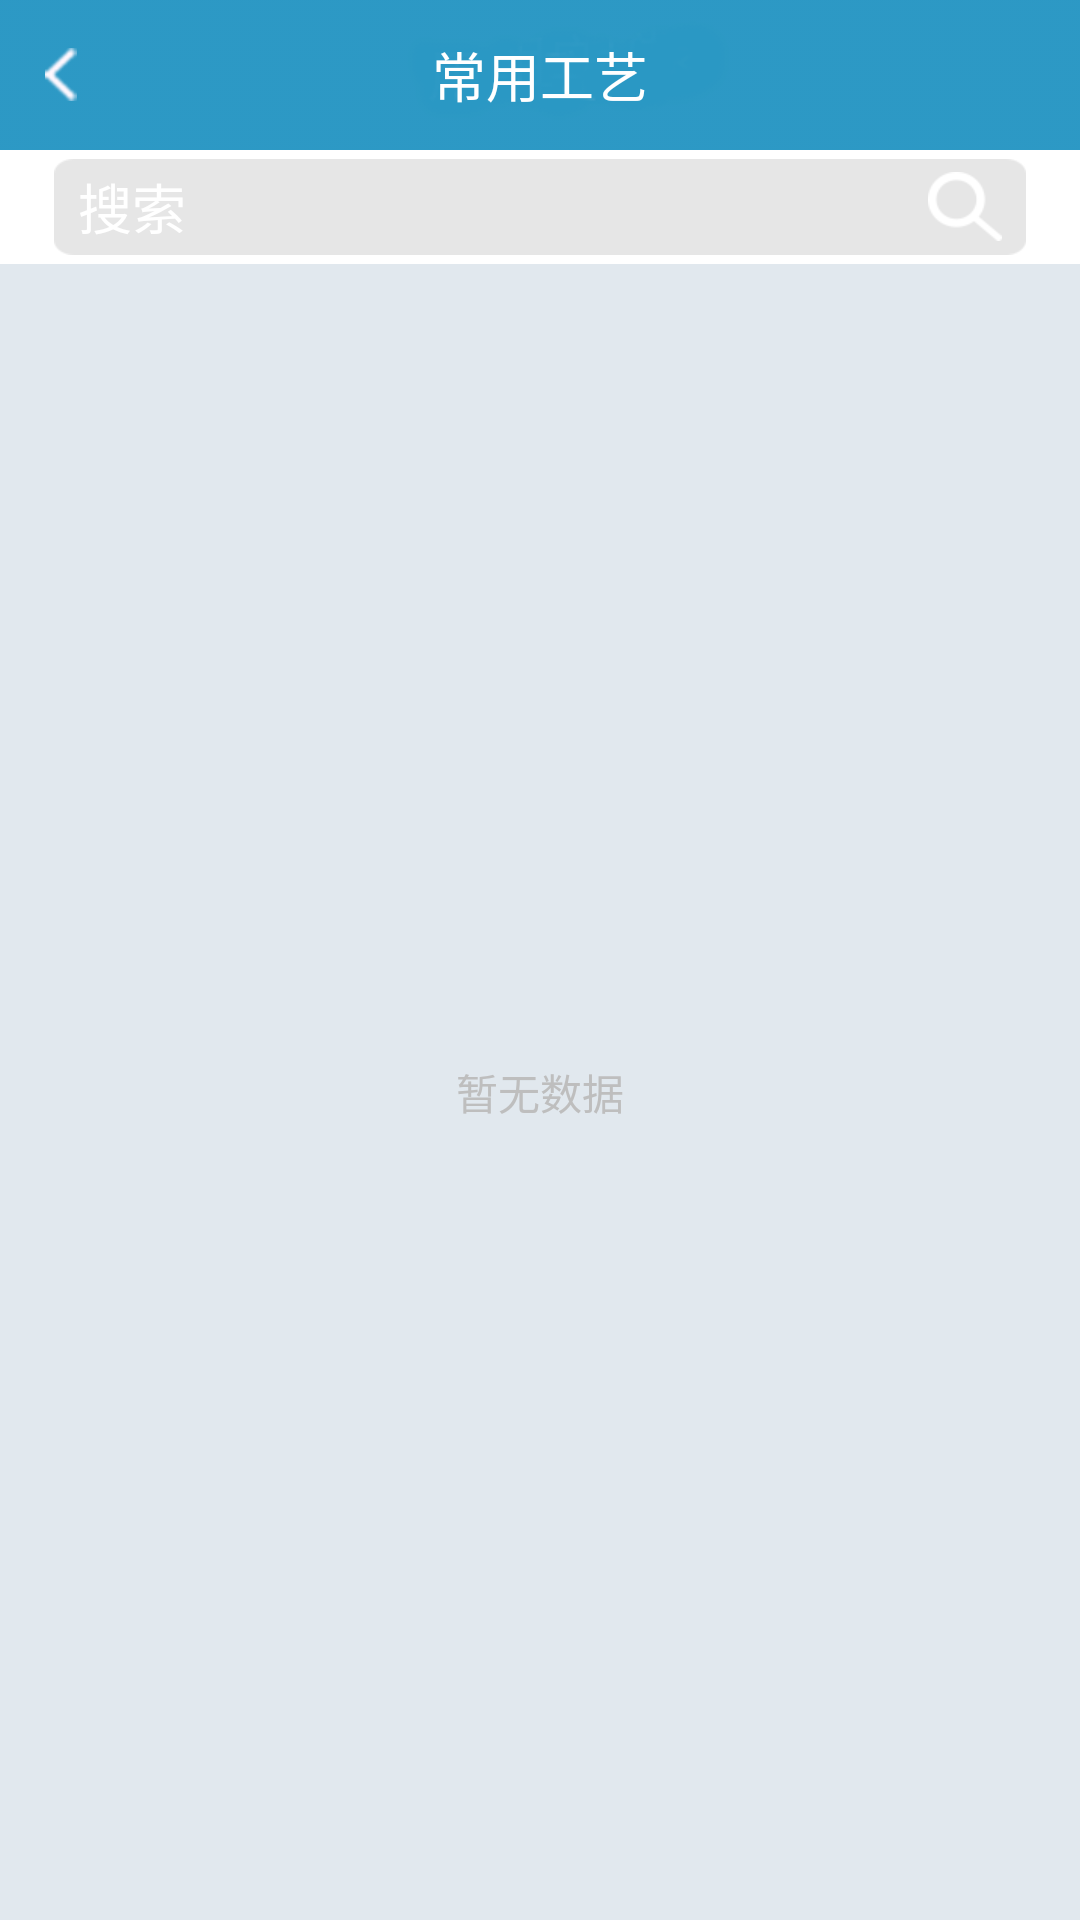

Named icons in this screenshot (1080 × 1920) and their bounding boxes, (x1, y1, x2, y2):
back: (45, 48, 77, 101)
